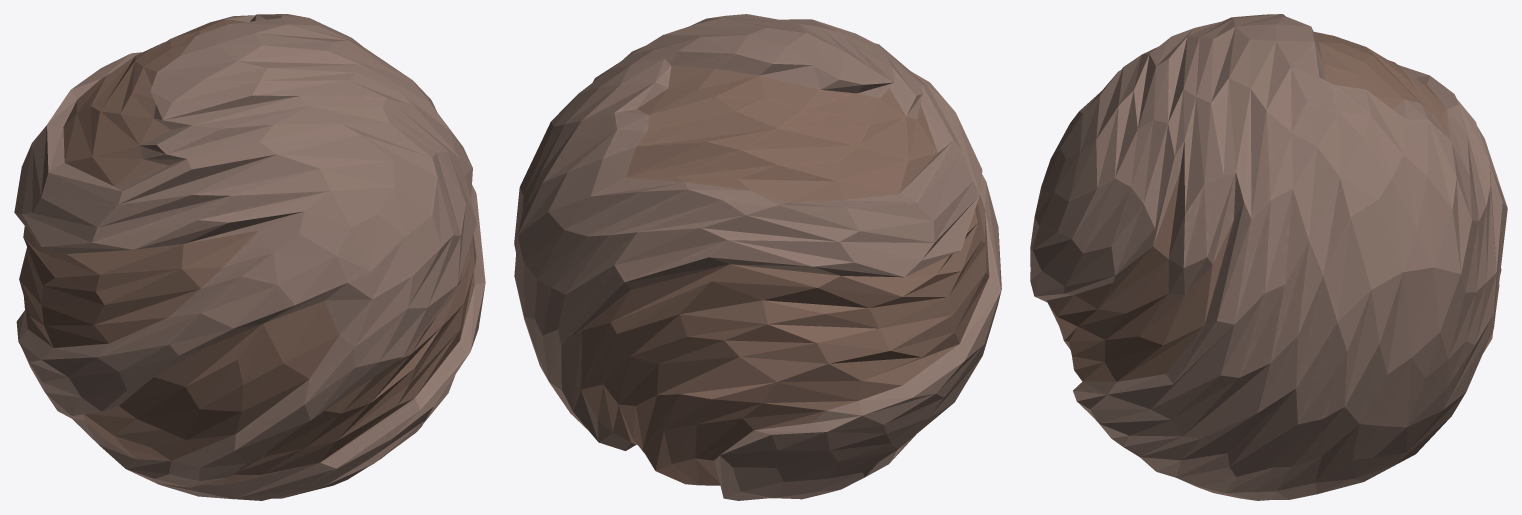
The model's file is Pluton.FBX.
3 renders of one model, left to right at view 1: azimuth 30°, elevation 25°; view 2: azimuth 150°, elevation 25°; view 3: azimuth 270°, elevation 25°, orthographic.
Visible parts, largest first — view 1: Pluto; view 2: Pluto; view 3: Pluto.
Part boxes in pixels (x1,y1,x2,y2): Pluto: (14,14,485,500); Pluto: (514,14,1001,500); Pluto: (1030,14,1507,500).
Bounding box in the file's own units: 0.2962 × 0.3001 × 0.2939.
